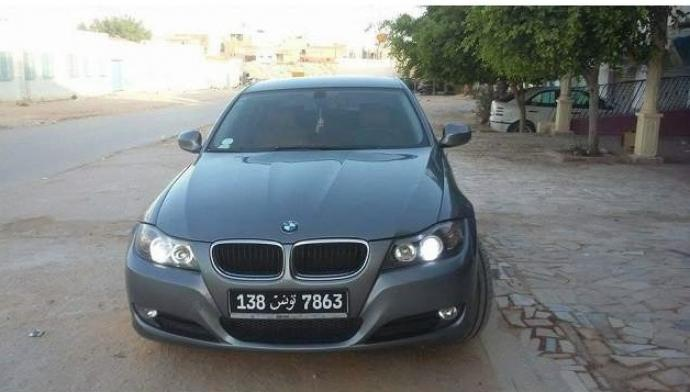LP: (227, 285, 351, 316)
